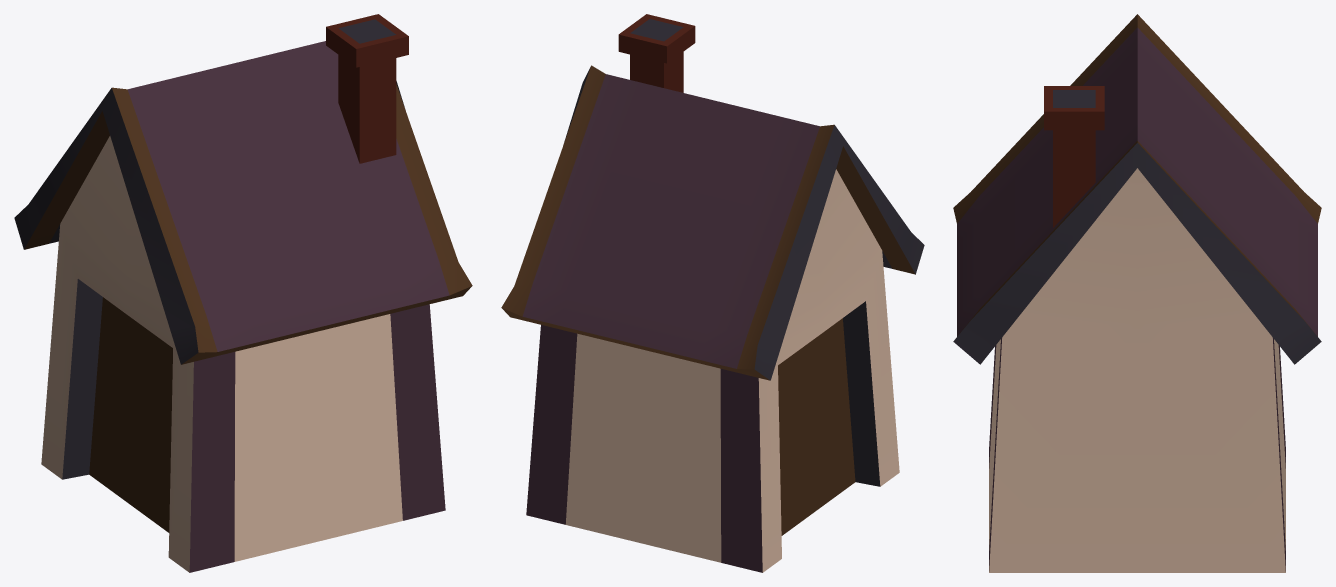
Rendered from Dwelling_001.fbx.
3 renders of one model, left to right at view 1: azimuth 30°, elevation 25°; view 2: azimuth 150°, elevation 25°; view 3: azimuth 270°, elevation 25°, orthographic. The views are drawn at different scales.
Parts seen in each view (by area): view 1: Dwelling_001; view 2: Dwelling_001; view 3: Dwelling_001.
Boxes of the visible parts, x1,y1,x2,y2 form: Dwelling_001: [14, 14, 472, 572]; Dwelling_001: [501, 14, 924, 572]; Dwelling_001: [953, 14, 1321, 572].
Bounding box in the file's own units: 207 × 321 × 234.
